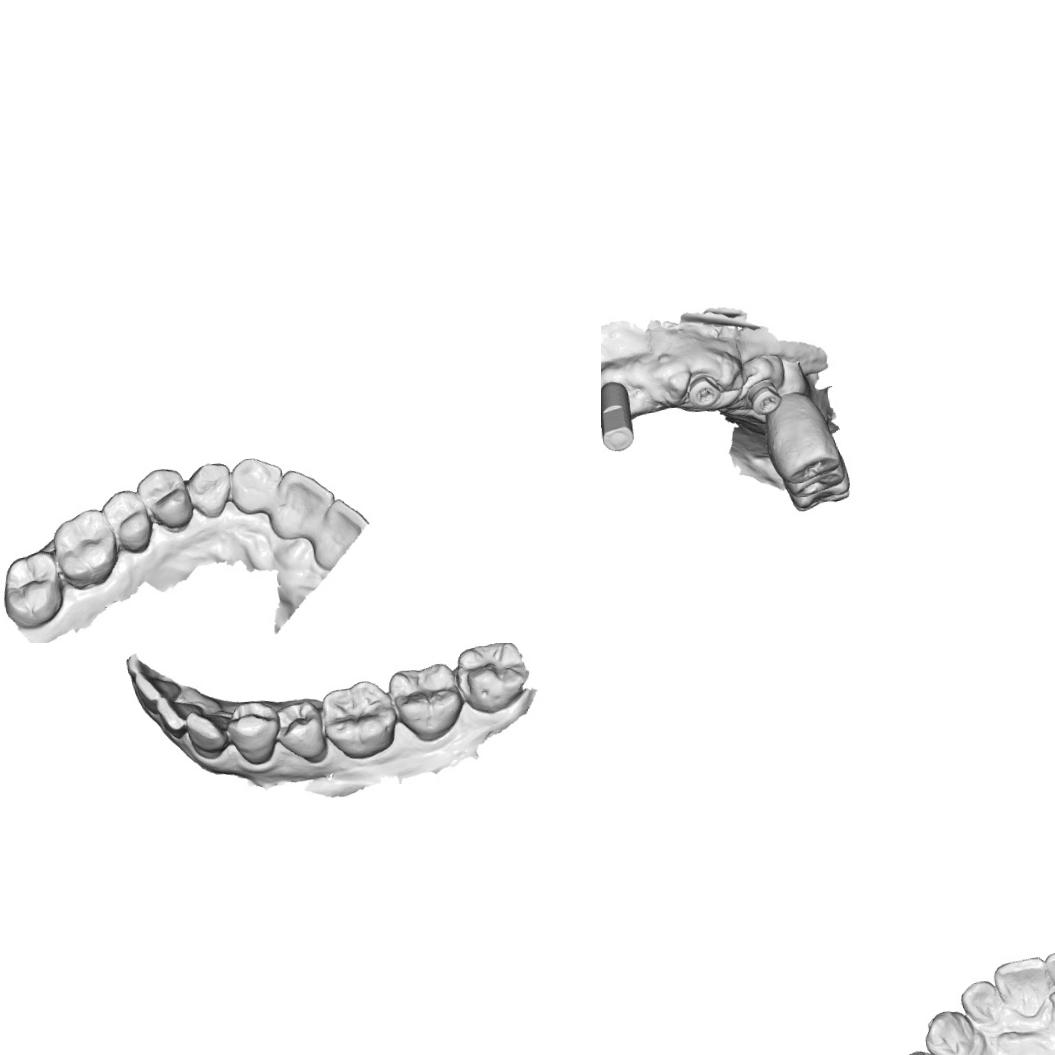canine: (183, 458, 235, 522), (919, 1003, 980, 1055), (182, 704, 235, 761)
implant: (601, 381, 640, 454), (682, 364, 726, 418), (740, 374, 788, 423)
incisor: (262, 464, 340, 543), (988, 953, 1055, 1021), (224, 452, 286, 519), (126, 669, 184, 723), (954, 974, 1008, 1030), (156, 688, 208, 744), (1041, 938, 1055, 1009)
molar: (317, 674, 402, 762), (386, 659, 466, 745), (48, 505, 122, 593), (451, 643, 530, 718), (0, 546, 66, 632)
premolar: (758, 386, 840, 487), (131, 461, 197, 536), (98, 484, 156, 558), (271, 696, 331, 766), (226, 700, 282, 772), (778, 452, 852, 502), (784, 485, 856, 514), (895, 1037, 962, 1055)
